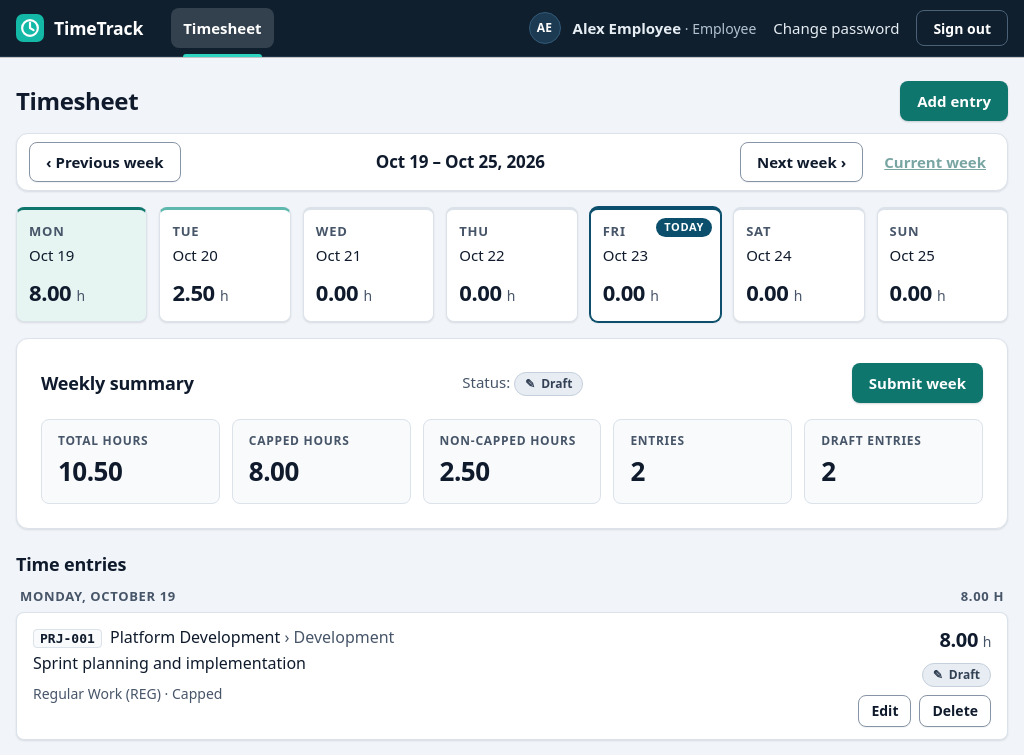
Submit week dialog › summarises what is being submitted and puts the safe choice first
Click the button "Submit week" at (917, 383), box top-left (852, 363), bottom-right (983, 403)
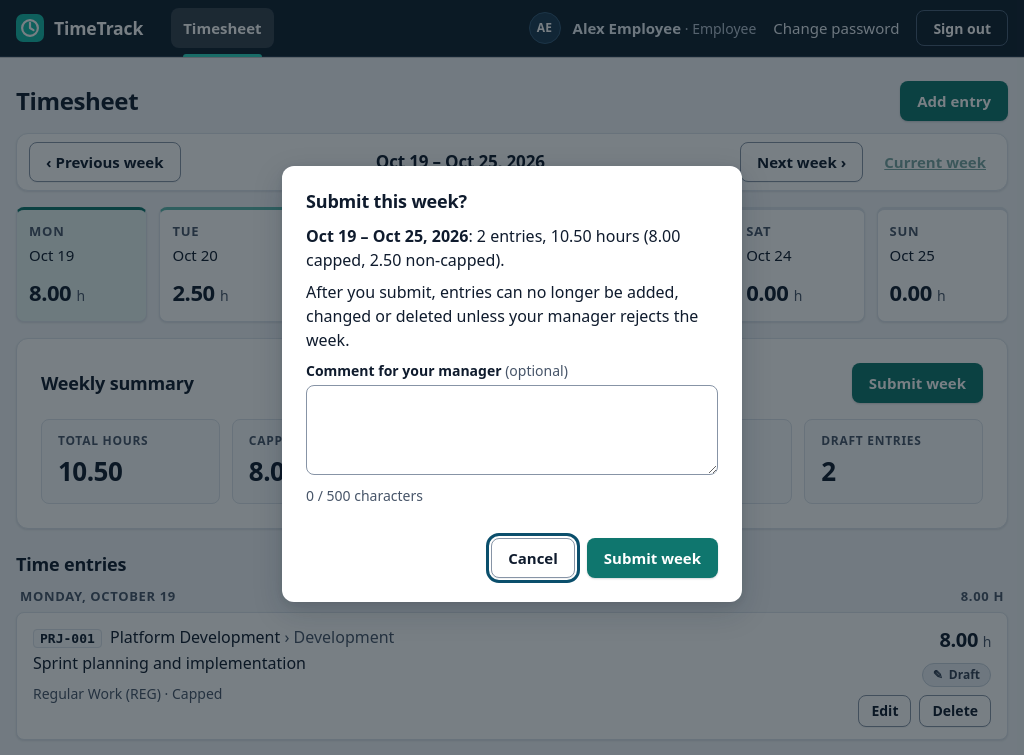
Check: the dialog shows "Oct 19 – Oct 25, 2026", box top-left (306, 225), bottom-right (468, 247)
Check: the dialog shows "2 entries", box top-left (282, 166), bottom-right (742, 602)
Check: the dialog shows "10.50 hours (8.00 capped, 2.50 non-capped)", box top-left (282, 166), bottom-right (742, 602)
